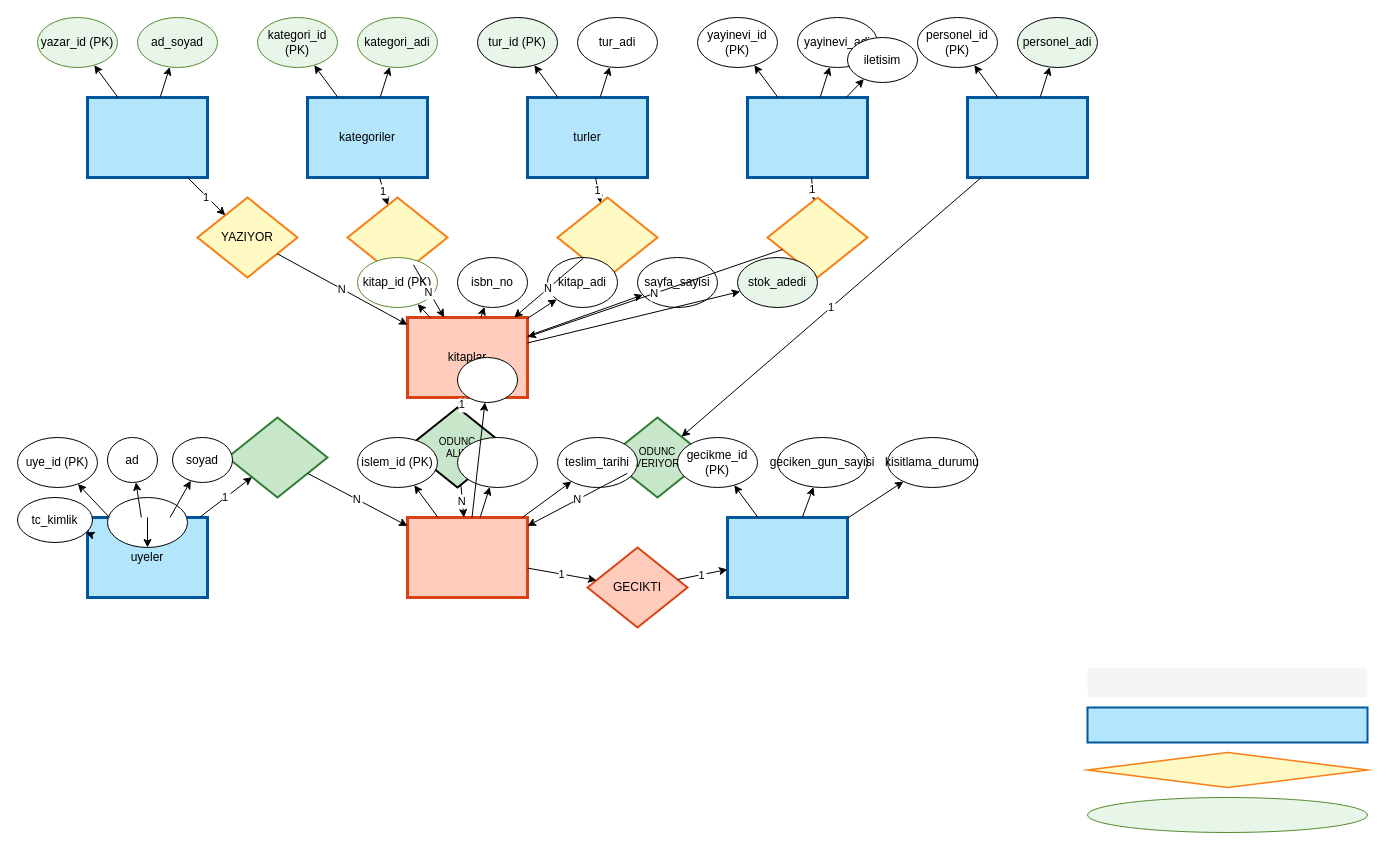
This 1386x850 diagram has some shape labels left out. The shapes that lost their labels are listed below. From the top down, each one's centre as x and y in pixels, then its label:
point (147, 137): yazarlar
point (807, 137): yayin_evleri
point (1027, 137): personel
point (397, 237): KATEGORIYE AIT
point (607, 237): TÜR_AIT
point (817, 237): YAYINLADI
point (487, 379): durum
point (277, 457): ALIYOR
point (497, 462): verilis_tarihi
point (147, 522): kayit_tarihi
point (467, 557): odunc_islemleri
point (787, 557): gecikenler
point (1227, 682): LEGEND - Chen Notation
point (1227, 724): Dikdörtgen = Entity (Varlık/Tablo)
point (1227, 769): Elmas = Relationship (İlişki)
point (1227, 814): Elips = Attribute (Öznitelik/Sütun)
